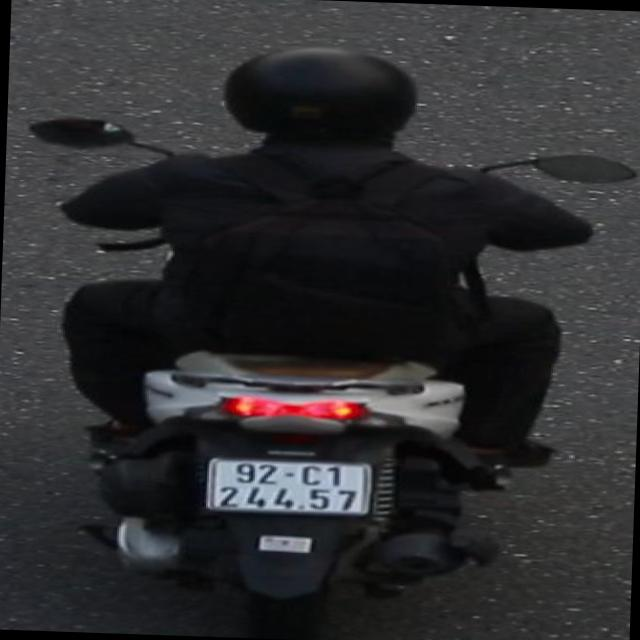LP: (197, 452, 383, 522)
helmet: (216, 42, 432, 164)
